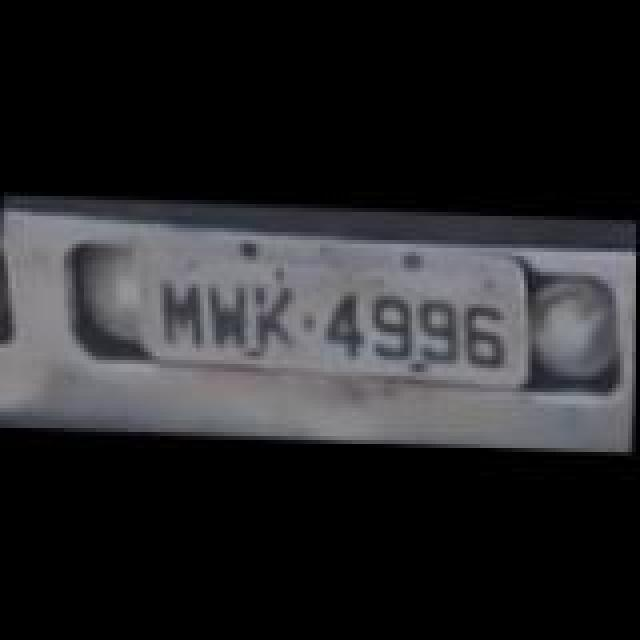4: (320, 290, 368, 354)
6: (460, 304, 516, 368)
9: (366, 292, 418, 356), (410, 300, 462, 360)
K: (246, 284, 298, 348)
M: (152, 280, 208, 348)
W: (206, 284, 258, 348)
